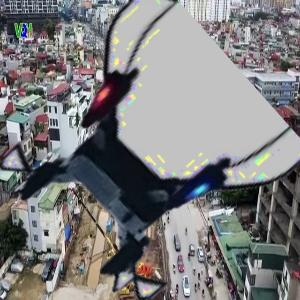drone: (13, 27, 274, 288)
